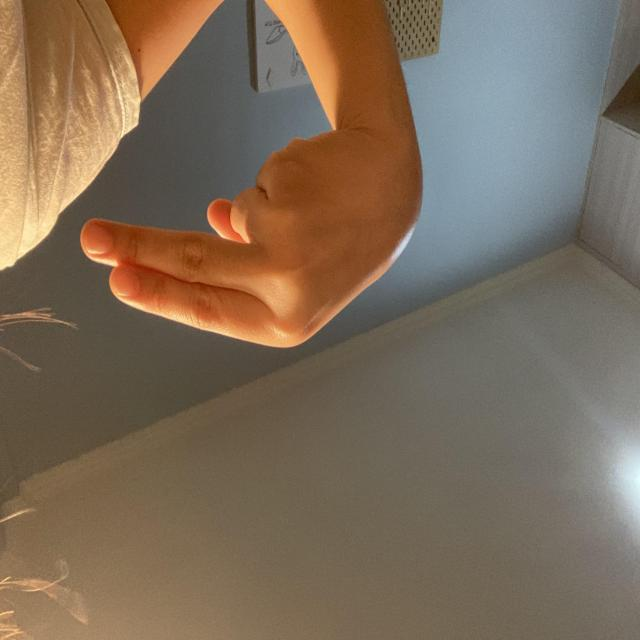H: (218, 291, 560, 512)
